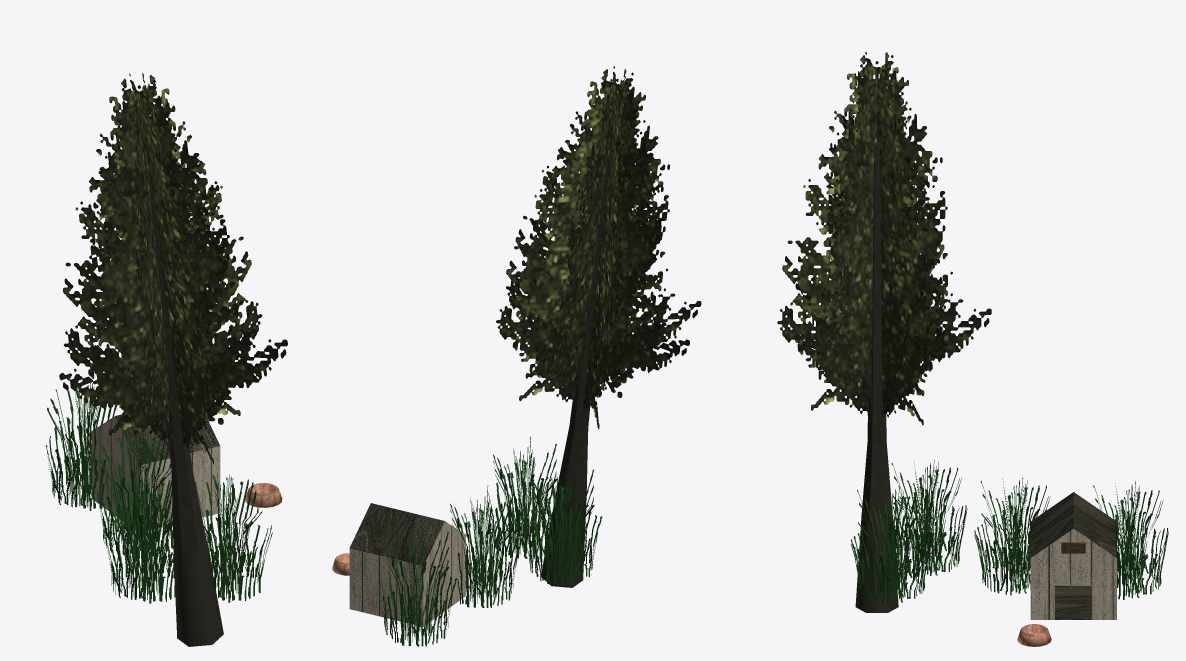
File: pepa_house.glb
3 renders of one model, left to right at view 1: azimuth 30°, elevation 25°; view 2: azimuth 150°, elevation 25°; view 3: azimuth 270°, elevation 25°, orthographic. The views are drawn at different scales.
Visible parts, largest first — view 1: tree01_obj, PEPA_house_obj, GrassCone_obj.003, GrassCone_obj.002, GrassCone_obj, GrassCone_obj.001, PEPA_food_obj; view 2: tree01_obj, PEPA_house_obj, GrassCone_obj.003, GrassCone_obj.001, GrassCone_obj, GrassCone_obj.002; view 3: tree01_obj, PEPA_house_obj, GrassCone_obj.002, GrassCone_obj.003, GrassCone_obj, GrassCone_obj.001, PEPA_food_obj.
Part boxes in pixels (x1=…): tree01_obj: x1=59, y1=73, x2=287, y2=646; PEPA_house_obj: x1=91, y1=414, x2=220, y2=530; GrassCone_obj.003: x1=105, y1=475, x2=175, y2=603; GrassCone_obj.002: x1=195, y1=474, x2=272, y2=602; GrassCone_obj: x1=97, y1=430, x2=173, y2=557; GrassCone_obj.001: x1=46, y1=383, x2=116, y2=510; PEPA_food_obj: x1=245, y1=483, x2=282, y2=507; tree01_obj: x1=496, y1=66, x2=701, y2=587; PEPA_house_obj: x1=349, y1=503, x2=465, y2=626; GrassCone_obj.003: x1=524, y1=462, x2=602, y2=584; GrassCone_obj.001: x1=378, y1=524, x2=456, y2=646; GrassCone_obj: x1=450, y1=485, x2=522, y2=607; GrassCone_obj.002: x1=487, y1=436, x2=561, y2=558; tree01_obj: x1=777, y1=52, x2=991, y2=612; PEPA_house_obj: x1=1030, y1=492, x2=1116, y2=619; GrassCone_obj.002: x1=851, y1=486, x2=932, y2=604; GrassCone_obj.003: x1=891, y1=459, x2=967, y2=577; GrassCone_obj: x1=974, y1=477, x2=1050, y2=595; GrassCone_obj.001: x1=1093, y1=481, x2=1168, y2=599; PEPA_food_obj: x1=1017, y1=624, x2=1051, y2=646.
Size of the model in its own units: 4.15 by 6.93 by 4.78.
Materials: 5 (5 with a texture image).
